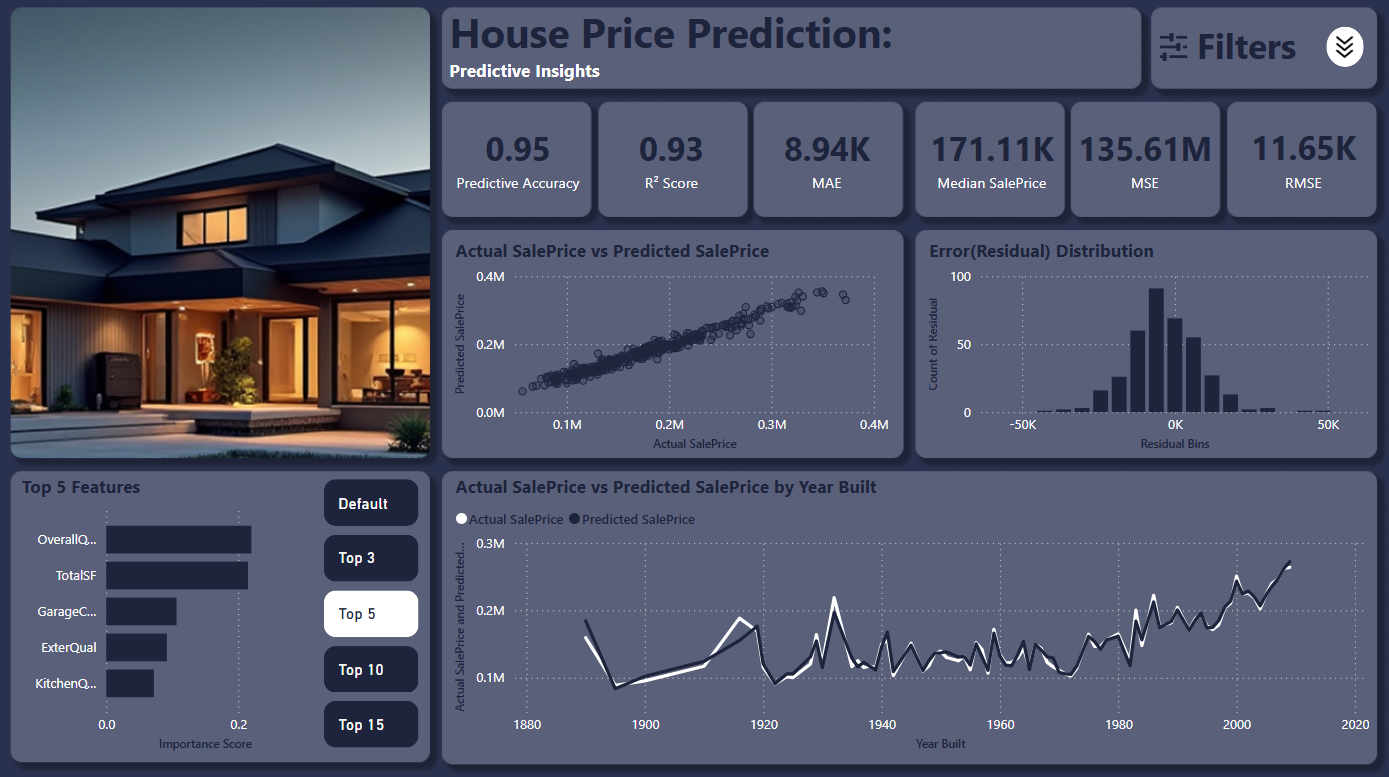

The page's visual inventory and layout, read from the dashboard file:
{"tool":"powerbi","page":{"name":"Predictive Insights","canvas":[1280,720],"ordinal":2},"visuals":[{"type":"image","box":[1056,24,48,40],"z":0,"group":"g2"},{"type":"shape","box":[1221.4,25.3,34.7,37.2],"z":0,"group":"g1"},{"type":"scatterChart","title":"Actual SalePrice vs Predicted SalePrice","fields":{"X":["xgboost_predictions.Actual_SalePrice"],"Y":["xgboost_predictions.Predicted_SalePrice"]},"box":[414.9,220.3,409.5,201.4],"z":0},{"type":"textbox","box":[1096,16,125.3,52],"z":1000,"group":"g2"},{"type":"image","box":[1218.7,21.3,38.7,44],"z":1000,"group":"g1"},{"type":"clusteredBarChart","fields":{"Category":["all_features.Feature"],"Y":["Feature_Measures.Top_N_By_Importance"]},"box":[14.9,437.8,278.4,259.5],"z":1000},{"type":"group","id":"g1","title":"Filter Down Button","box":[1218.7,19.3,39.1,48],"z":2000,"group":"g2"},{"type":"advancedSlicerVisual","fields":{"Values":["Rank Table.Option"]},"box":[293.2,437.8,97.3,259.5],"z":2000},{"type":"clusteredColumnChart","title":"Error(Residual) Distribution","fields":{"Category":["xgboost_predictions.Residual Bins"],"Y":["CountNonNull(xgboost_predictions.Residual)"]},"box":[850,220.3,416.2,201.4],"z":3000},{"type":"lineChart","title":"Actual SalePrice vs Predicted SalePrice by Year Built","fields":{"Category":["xgboost_predictions.YearBuilt"],"Y":["Avg(xgboost_predictions.Actual_SalePrice)","Avg(xgboost_predictions.Predicted_SalePrice)"]},"box":[414.9,437.8,851.4,259.5],"z":4000},{"type":"card","fields":{"Values":["Avg(housing_price_metrics.Value)"]},"box":[414.9,100,125.7,93.2],"z":6000},{"type":"card","fields":{"Values":["Avg(housing_price_metrics.Value)"]},"box":[554.1,100,129.7,93.2],"z":7000},{"type":"card","fields":{"Values":["Avg(housing_price_metrics.Value)"]},"box":[698.6,100,125.7,93.2],"z":8000},{"type":"card","fields":{"Values":["Avg(housing_price_metrics.Value)"]},"box":[850,100,125.7,93.2],"z":9000},{"type":"card","fields":{"Values":["Avg(housing_price_metrics.Value)"]},"box":[987.8,100,133.8,93.2],"z":10000},{"type":"card","fields":{"Values":["Avg(housing_price_metrics.Value)"]},"box":[1135.1,100,131.1,91.9],"z":11000},{"type":"textbox","box":[408,0,632,85.3],"z":12000},{"type":"group","id":"g2","title":"Filter Label","box":[1056,16,201.8,52],"z":13000}]}

Visuals, with their boxes in screenshot pixels (x1, y1, x2, y2), scaled from the page's 1280x720 canvas onto the 1389x777 screenshot:
image: x1=1146 y1=26 x2=1198 y2=69
shape: x1=1325 y1=27 x2=1363 y2=67
"Actual SalePrice vs Predicted SalePrice" scatterChart: x1=450 y1=238 x2=895 y2=455
textbox: x1=1189 y1=17 x2=1325 y2=73
image: x1=1322 y1=23 x2=1364 y2=70
clusteredBarChart - all_features.Feature x Feature_Measures.Top_N_By_Importance: x1=16 y1=472 x2=318 y2=753
"Filter Down Button" group: x1=1322 y1=21 x2=1365 y2=73
advancedSlicerVisual - Rank Table.Option: x1=318 y1=472 x2=424 y2=753
"Error(Residual) Distribution" clusteredColumnChart: x1=922 y1=238 x2=1374 y2=455
"Actual SalePrice vs Predicted SalePrice by Year Built" lineChart: x1=450 y1=472 x2=1374 y2=753
card - Avg(housing_price_metrics.Value): x1=450 y1=108 x2=587 y2=208
card - Avg(housing_price_metrics.Value): x1=601 y1=108 x2=742 y2=208
card - Avg(housing_price_metrics.Value): x1=758 y1=108 x2=894 y2=208
card - Avg(housing_price_metrics.Value): x1=922 y1=108 x2=1059 y2=208
card - Avg(housing_price_metrics.Value): x1=1072 y1=108 x2=1217 y2=208
card - Avg(housing_price_metrics.Value): x1=1232 y1=108 x2=1374 y2=207
textbox: x1=443 y1=0 x2=1129 y2=92
"Filter Label" group: x1=1146 y1=17 x2=1365 y2=73
